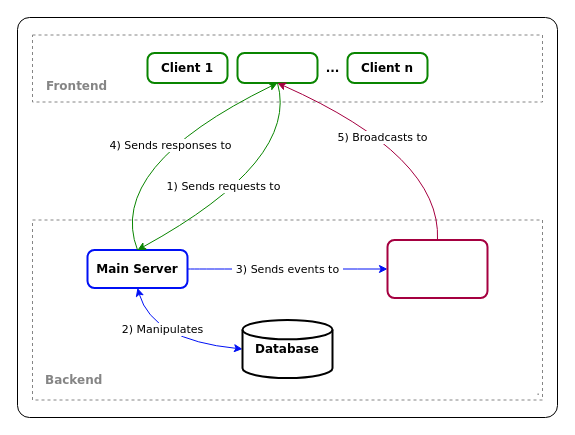
Image size: 575x435. Some labels were removed from this diagram. Each missing label, with the box of its shape:
Client x: (236, 52, 318, 84)
WebSocket Server: (386, 238, 488, 298)
